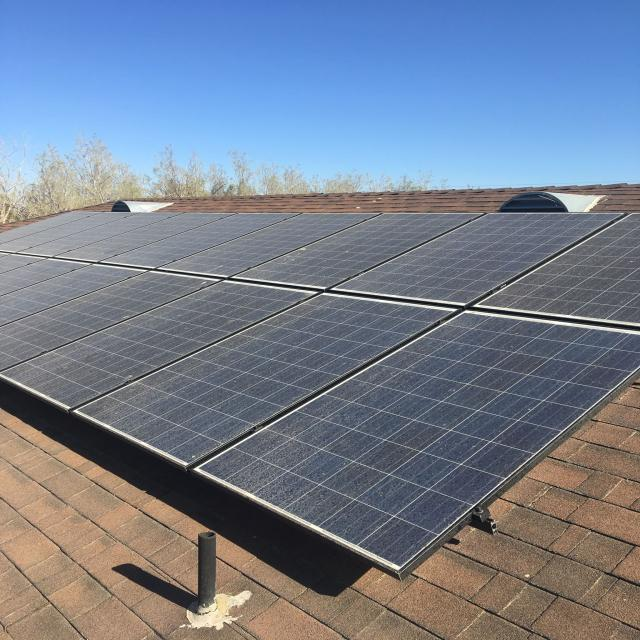dust-solar-panel: (0, 209, 640, 568)
